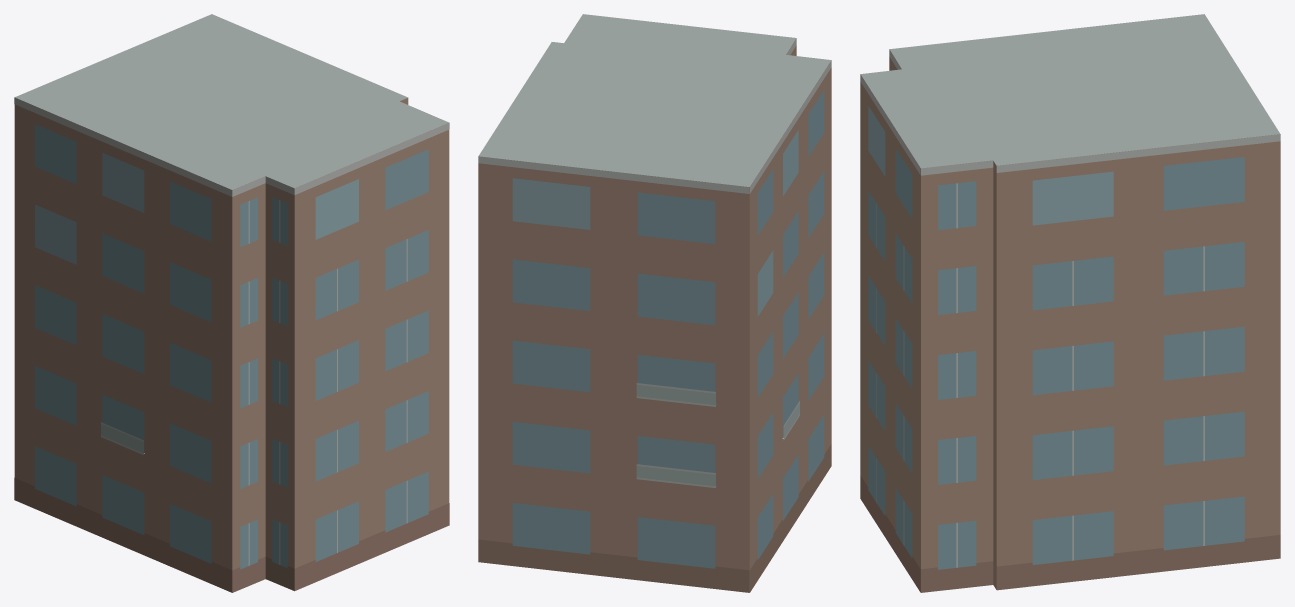
The model's file is survey-upis-32715900.glb.
3 renders of one model, left to right at view 1: azimuth 30°, elevation 25°; view 2: azimuth 150°, elevation 25°; view 3: azimuth 270°, elevation 25°, orthographic. The views are drawn at different scales.
Parts seen in each view (by area): view 1: survey-upis-32715900.tmp; view 2: survey-upis-32715900.tmp; view 3: survey-upis-32715900.tmp.
Boxes of the visible parts, x1,y1,x2,y2 form: survey-upis-32715900.tmp: [14, 14, 449, 592]; survey-upis-32715900.tmp: [478, 14, 831, 592]; survey-upis-32715900.tmp: [860, 14, 1280, 592].
Bounding box in the file's own units: 11.17 × 14.3 × 12.84.
